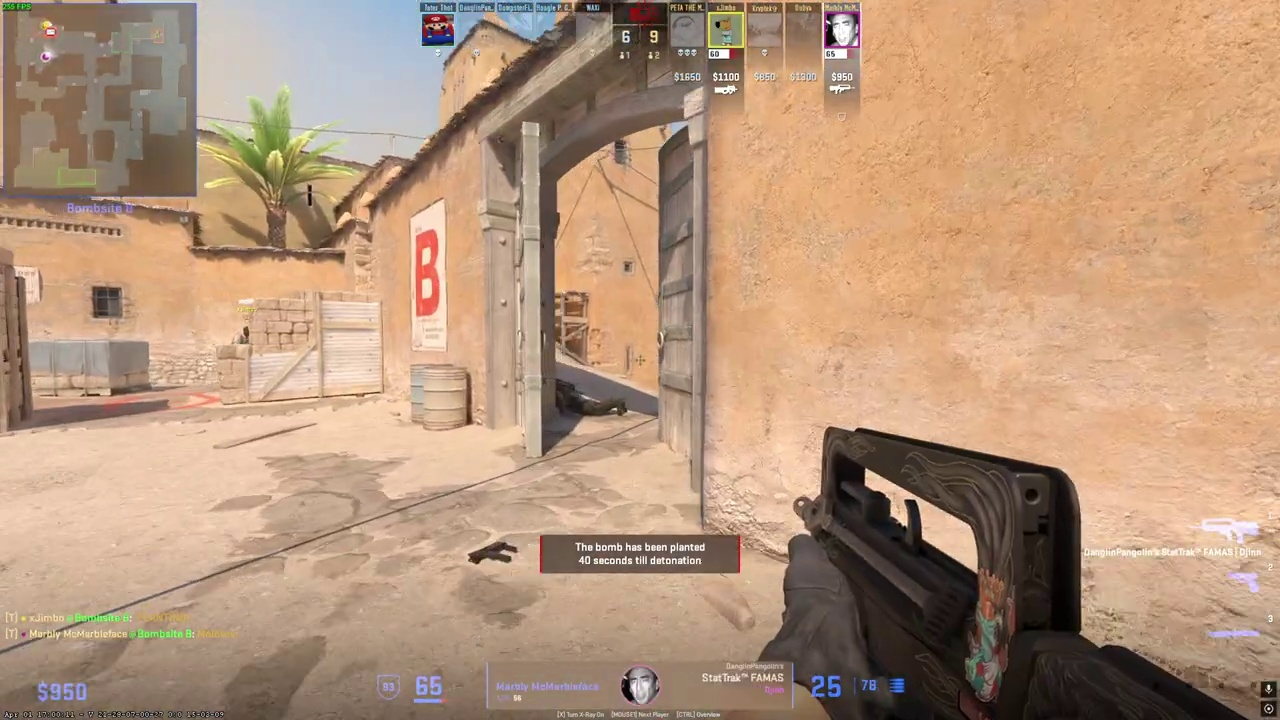Terrorist: (233, 326, 250, 344)
